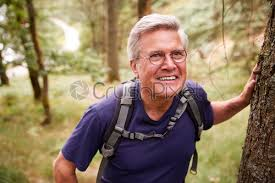white_male: (124, 33, 200, 109)
